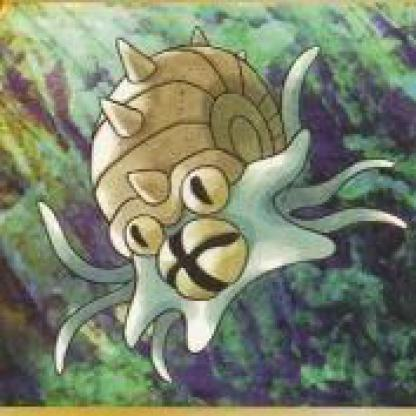Omastar: (45, 28, 413, 358)
